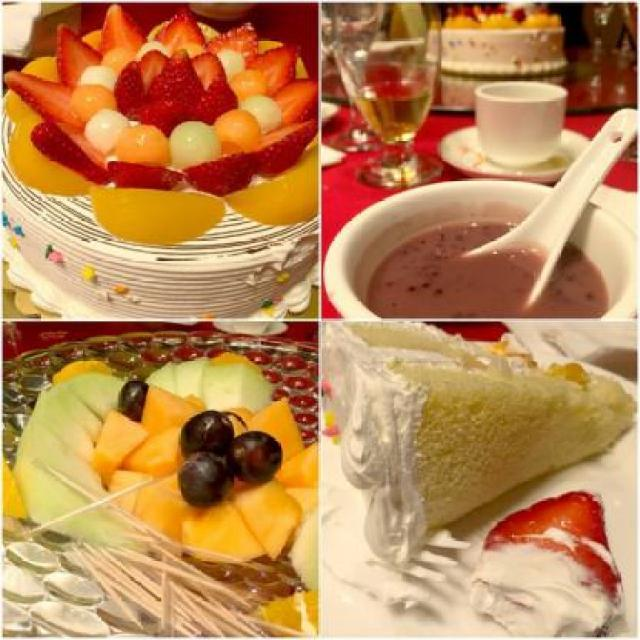Strawberry: (478, 482, 624, 624), (31, 118, 108, 190), (0, 70, 86, 128), (147, 39, 210, 112), (250, 118, 319, 176), (182, 149, 255, 197), (248, 40, 303, 98), (94, 3, 148, 60), (104, 158, 188, 194), (153, 4, 210, 53), (272, 71, 321, 127), (108, 62, 154, 120), (136, 95, 198, 137), (60, 27, 102, 84), (192, 77, 240, 125), (213, 20, 258, 65), (188, 48, 226, 94), (134, 47, 170, 81)
